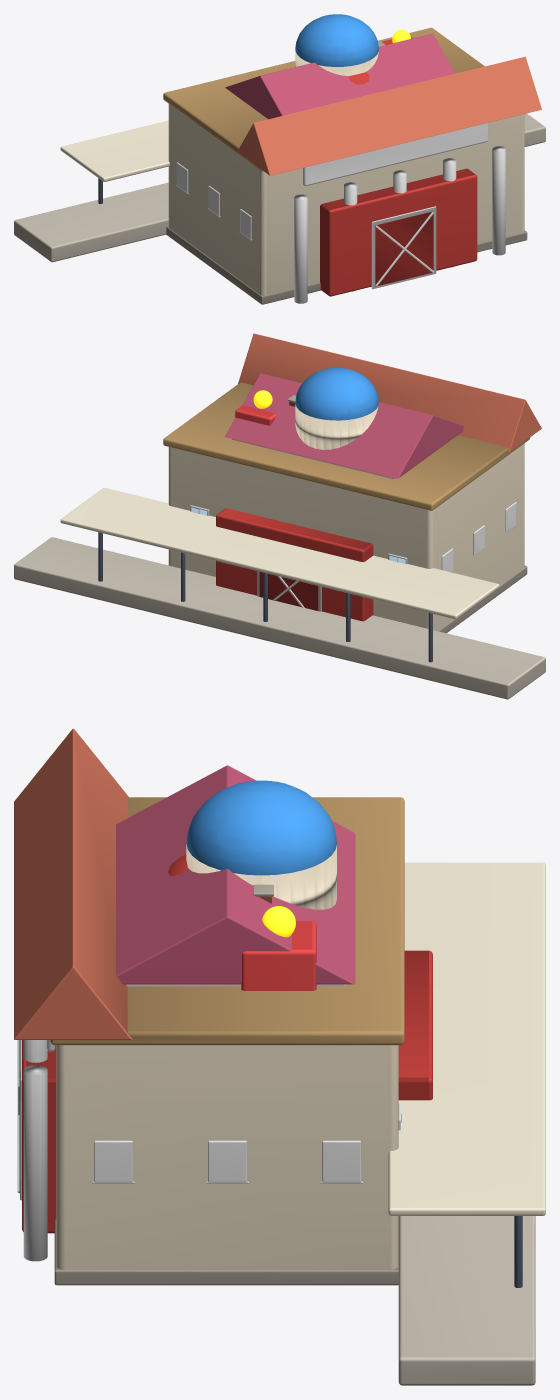
The model's file is edificios.glb.
3 views of the same model, one above another, from view 1: azimuth 30°, elevation 25°; view 2: azimuth 150°, elevation 25°; view 3: azimuth 270°, elevation 25° (orthographic). The views are drawn at different scales.
Parts seen in each view (by area): view 1: muros.017, fronton, muros.018, tejado.006, anden, cornisa.009, marquesina, letrero.009, cupula, portalon, zocalo.012, columna.004 (+3 smaller); view 2: anden, muros.017, marquesina, cornisa.009, fronton, tejado.006, muros.018, cupula, cupula_base, portalon.001, zocalo.012, torre; view 3: muros.017, marquesina, fronton, cornisa.009, tejado.006, anden, cupula, muros.018, zocalo.012, columna.008, torre, cupula_base (+4 smaller).
Part boxes in pixels (x1,y1,x2,y2): muros.017: (168, 104, 524, 295); fronton: (237, 56, 541, 175); muros.018: (320, 168, 477, 296); tejado.006: (225, 33, 454, 119); anden: (14, 113, 545, 262); cornisa.009: (163, 27, 484, 171); marquesina: (60, 120, 169, 181); letrero.009: (303, 123, 488, 186); cupula: (295, 14, 378, 66); portalon: (375, 211, 433, 286); zocalo.012: (166, 226, 527, 304); columna.004: (294, 194, 307, 303); anden: (14, 537, 545, 699); muros.017: (168, 443, 524, 630); marquesina: (60, 488, 499, 619); cornisa.009: (163, 382, 530, 510); fronton: (238, 333, 541, 452); tejado.006: (225, 373, 463, 478); muros.018: (216, 508, 373, 621); cupula: (295, 367, 378, 420); cupula_base: (295, 404, 378, 449); portalon.001: (259, 571, 318, 610); zocalo.012: (438, 565, 527, 633); torre: (235, 405, 276, 425); muros.017: (56, 1045, 398, 1269); marquesina: (388, 862, 545, 1215); fronton: (14, 728, 132, 1039); cornisa.009: (50, 797, 404, 1045); tejado.006: (116, 765, 355, 984); anden: (398, 1216, 535, 1385); cupula: (186, 780, 336, 875); muros.018: (22, 950, 432, 1233); zocalo.012: (54, 1219, 398, 1285); columna.008: (23, 1065, 47, 1261); torre: (241, 921, 316, 990); cupula_base: (186, 844, 336, 909).
Size of the model in its own units: 30 by 12.46 by 15.53.
